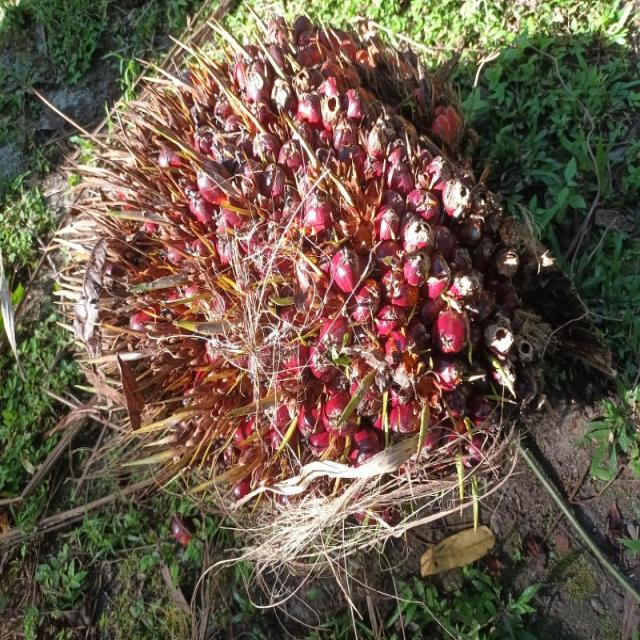fraksi 3: (60, 5, 567, 515)
